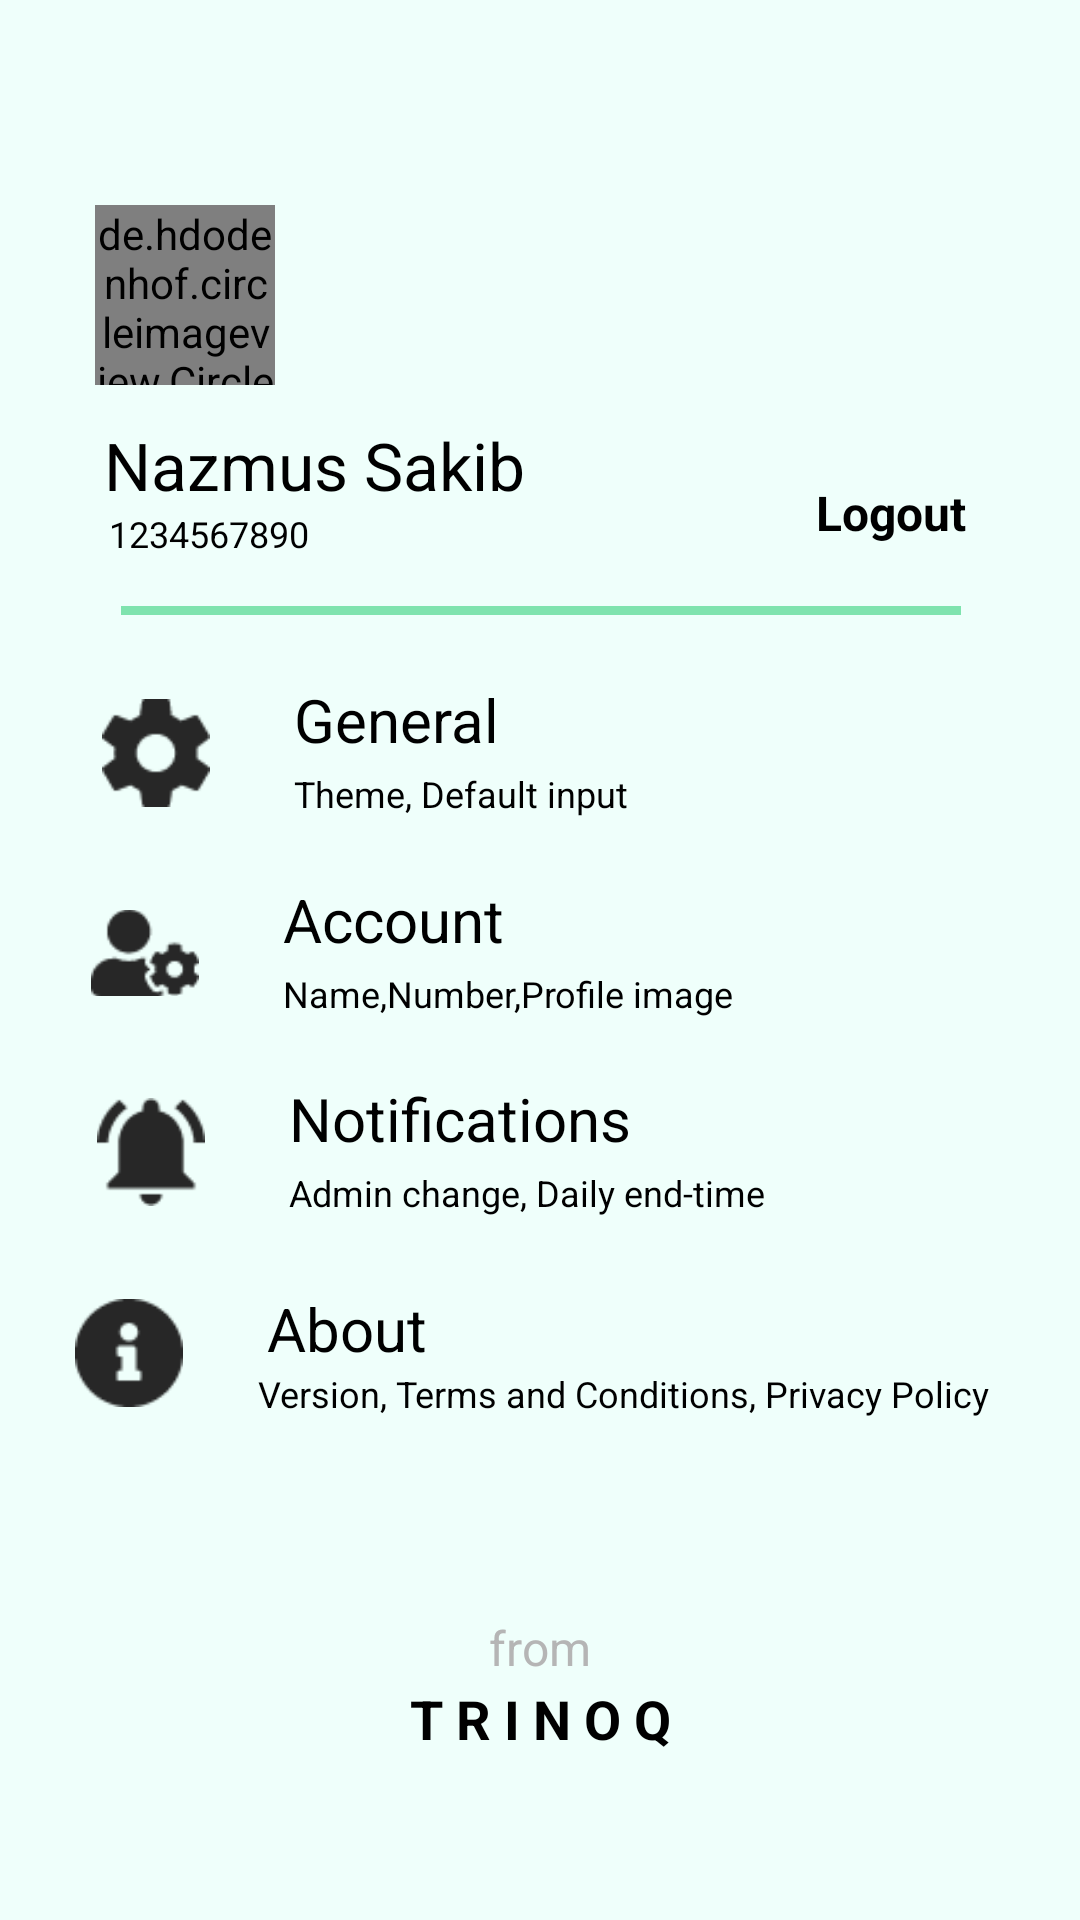

Named icons in this screenshot (1080px×1920px) and their bounding boxes, (x1, y1, x2, y2):
awesome info: (75, 1299, 183, 1407)
awesome user: (91, 910, 199, 996)
settings: (102, 699, 210, 807)
